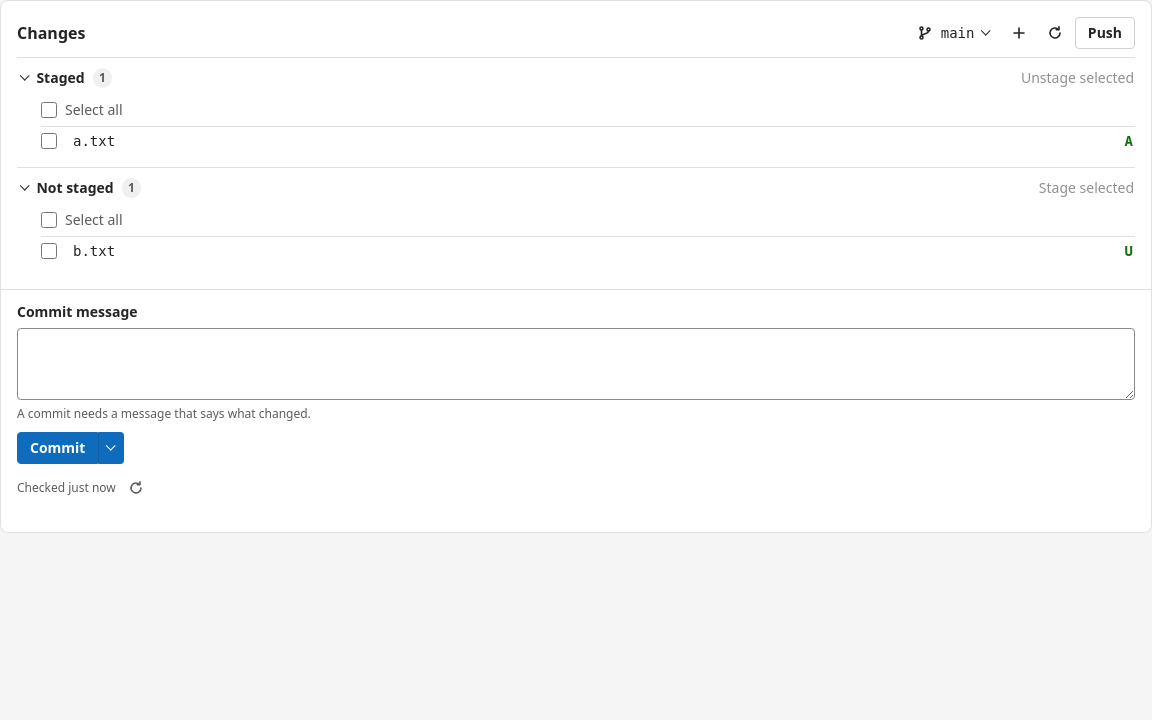
Test: no input on a new branch carries its own validation rule
This screenshot has width=1152, height=720.
Click the button named "New branch" at point(1019, 33), box 1003,17 -> 1035,49
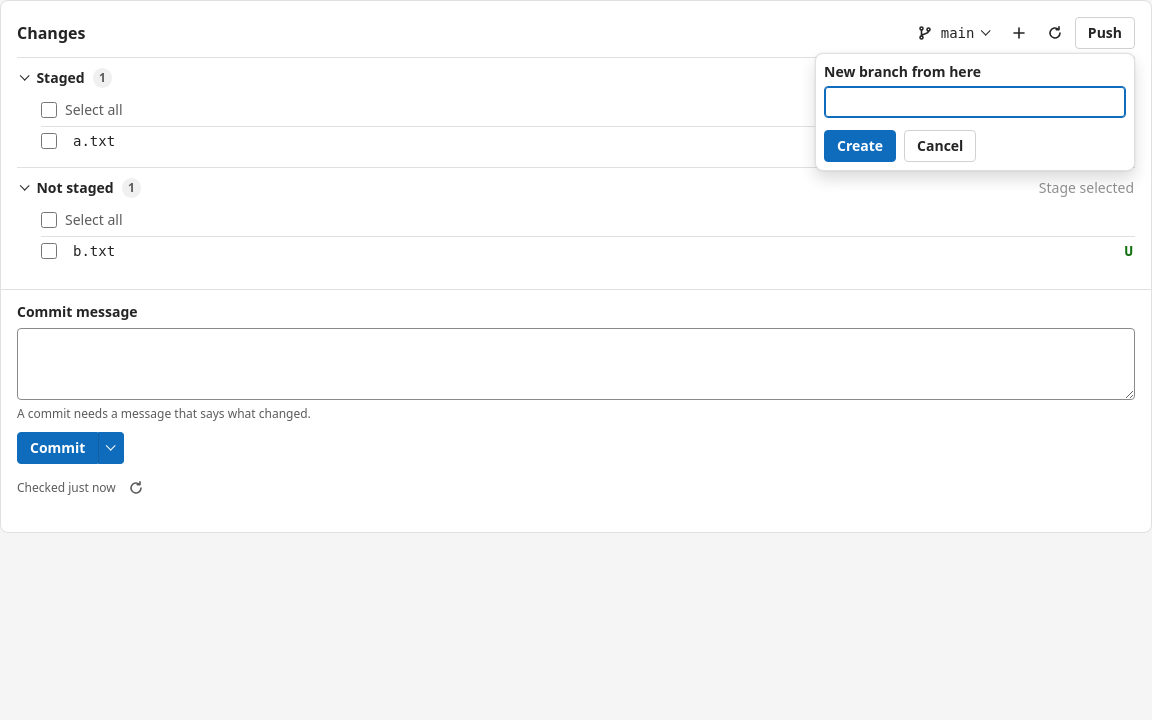
Now the field labelled "New branch from here" is shown, box 824,86 -> 1126,118
Now the number of forms is 2, box 824,62 -> 1126,162; 17,302 -> 1135,464
